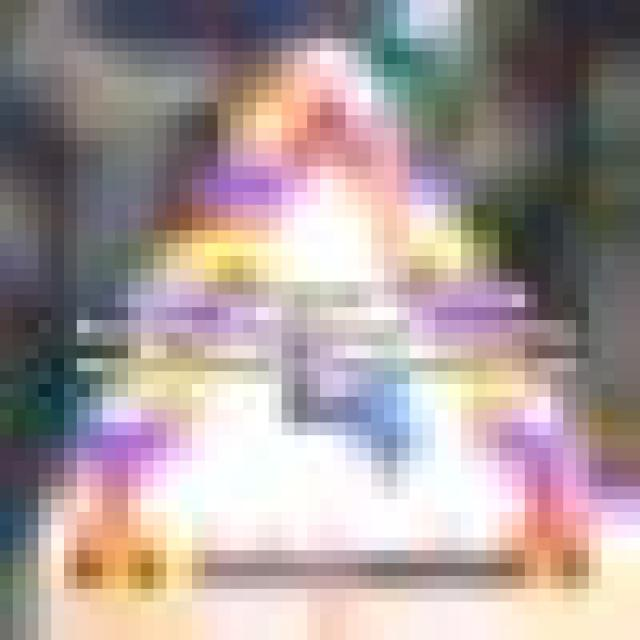LEFT_REVERSE_BEND: (38, 26, 614, 602)
